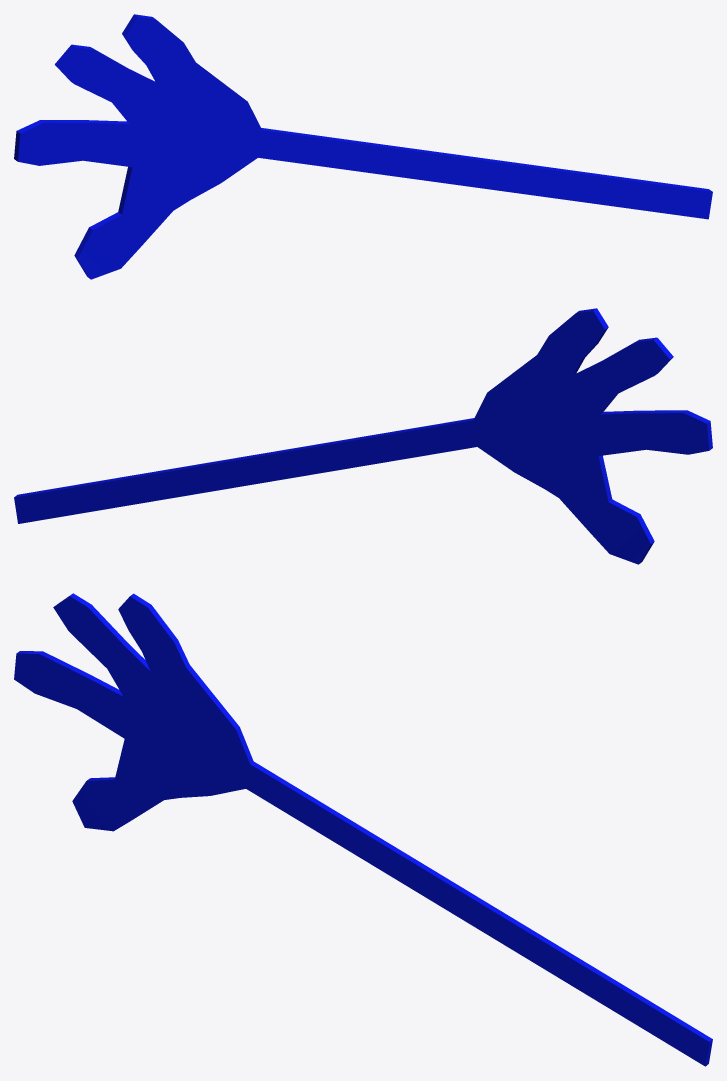
The model's file is StickyHand.fbx.
3 views of the same model, one above another, from view 1: azimuth 30°, elevation 25°; view 2: azimuth 150°, elevation 25°; view 3: azimuth 330°, elevation 25° (orthographic). The views are drawn at different scales.
Visible parts, largest first — view 1: Maya_File_Assets:TexturedAssetsCurrent:stickyHand; view 2: Maya_File_Assets:TexturedAssetsCurrent:stickyHand; view 3: Maya_File_Assets:TexturedAssetsCurrent:stickyHand.
Part boxes in pixels (<box>): Maya_File_Assets:TexturedAssetsCurrent:stickyHand: <box>14,14,712,279</box>; Maya_File_Assets:TexturedAssetsCurrent:stickyHand: <box>14,308,712,564</box>; Maya_File_Assets:TexturedAssetsCurrent:stickyHand: <box>14,593,712,1066</box>.
Bounding box in the file's own units: 0.9093 × 0.4345 × 0.0364.
